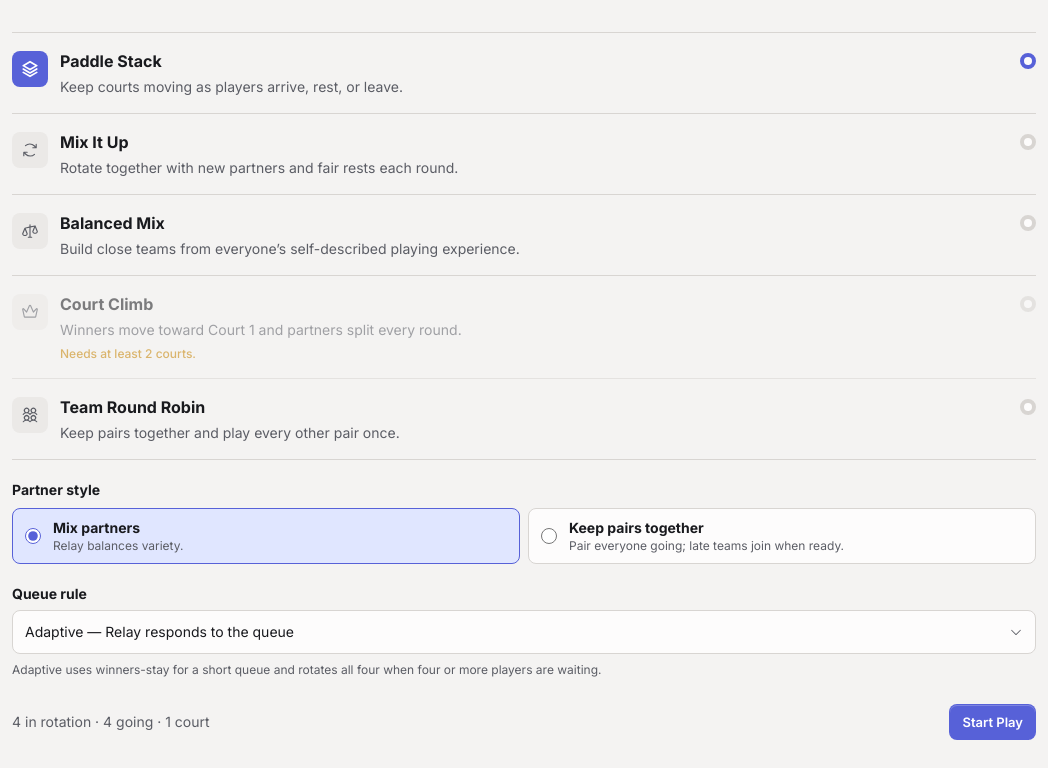
PlaySetupForm › offers Balanced Mix and explains missing experience without blocking play
Click the radio button labelled "Balanced Mix". click: (30, 231)
box: [12,195,1036,276]
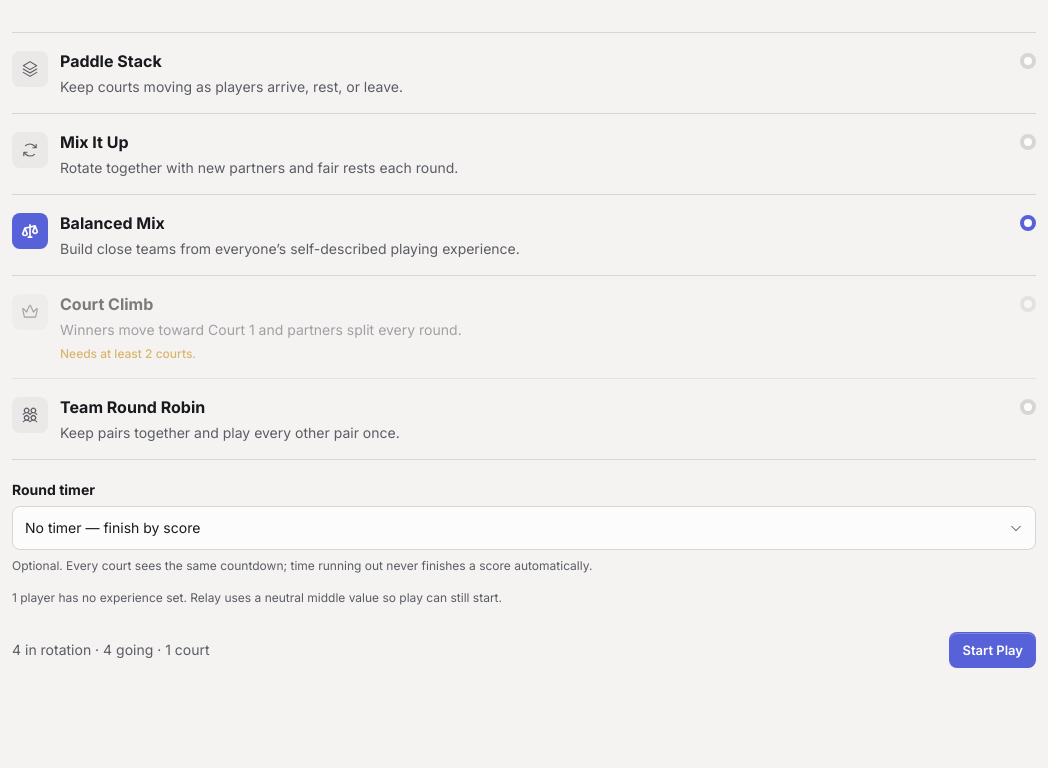
Expected: the button "Start Play" is enabled, [950,632,1036,668]
Result: the text "1 player has no experience set" is shown at [12,590,502,605]
